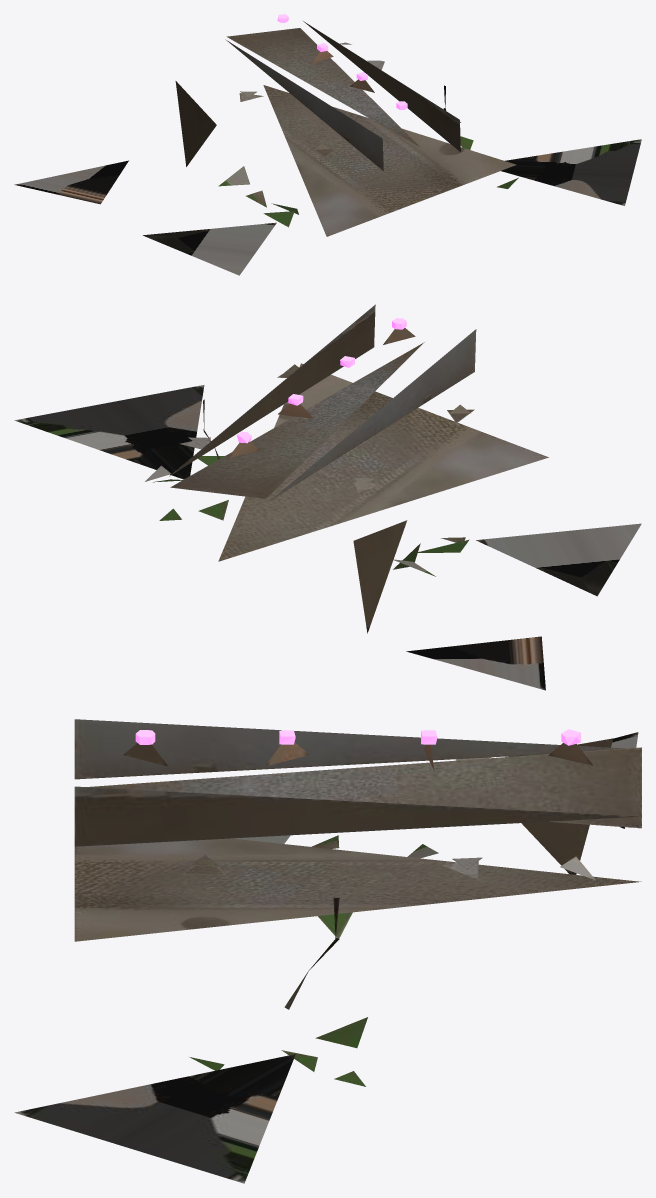
Rendered from muro_escudo_lado.glb.
The picture shows the model from 3 angles, top to bottom: view 1: azimuth 30°, elevation 25°; view 2: azimuth 150°, elevation 25°; view 3: azimuth 270°, elevation 25°; orthographic projection. The views are drawn at different scales.
Visible parts, largest first — view 1: muro_escudo_lado_corpo; view 2: muro_escudo_lado_corpo, mcampo_l_led_v; view 3: muro_escudo_lado_corpo, mcampo_l_led_v.
Boxes of the visible parts, x1,y1,x2,y2 form: muro_escudo_lado_corpo: (14,21,641,275); muro_escudo_lado_corpo: (14,304,641,690); mcampo_l_led_v: (236,318,406,443); muro_escudo_lado_corpo: (14,719,641,1183); mcampo_l_led_v: (135,729,580,745).
Size of the model in its own units: 0.49 by 0.1259 by 0.2878.
2 materials, 1 textured.
